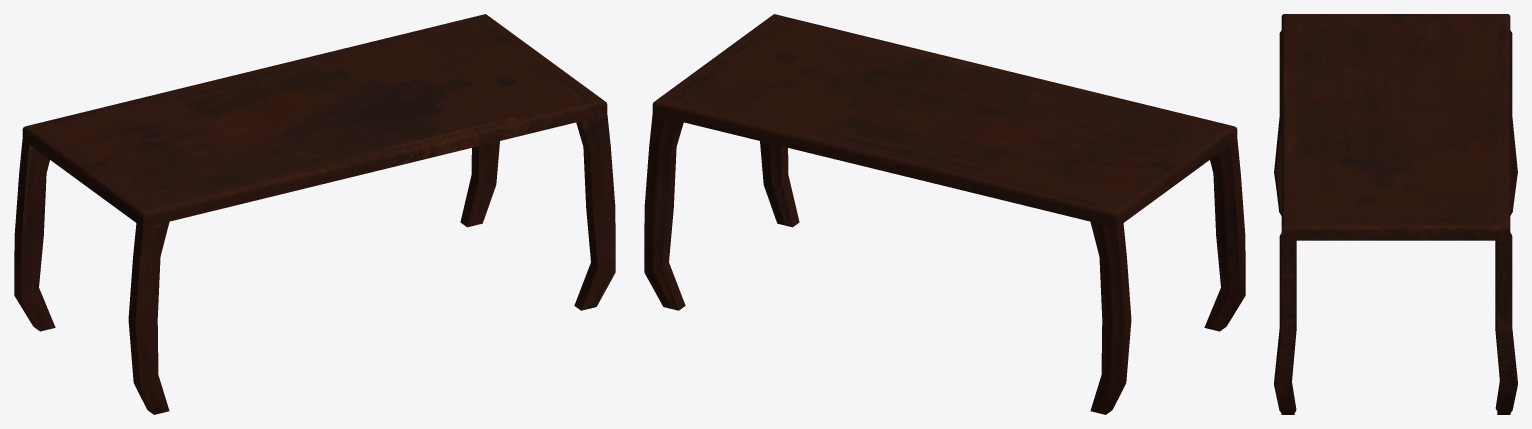
3 renders of one model, left to right at view 1: azimuth 30°, elevation 25°; view 2: azimuth 150°, elevation 25°; view 3: azimuth 270°, elevation 25°, orthographic. The views are drawn at different scales.
Parts seen in each view (by area): view 1: Box001; view 2: Box001; view 3: Box001.
Part boxes in pixels (box(x1,y1,x2,y2)): Box001: box(14, 14, 615, 414); Box001: box(644, 14, 1245, 414); Box001: box(1274, 14, 1517, 414).
Bounding box in the file's own units: 34.57 × 14.03 × 16.07.
Materials: 1 (1 with a texture image).
